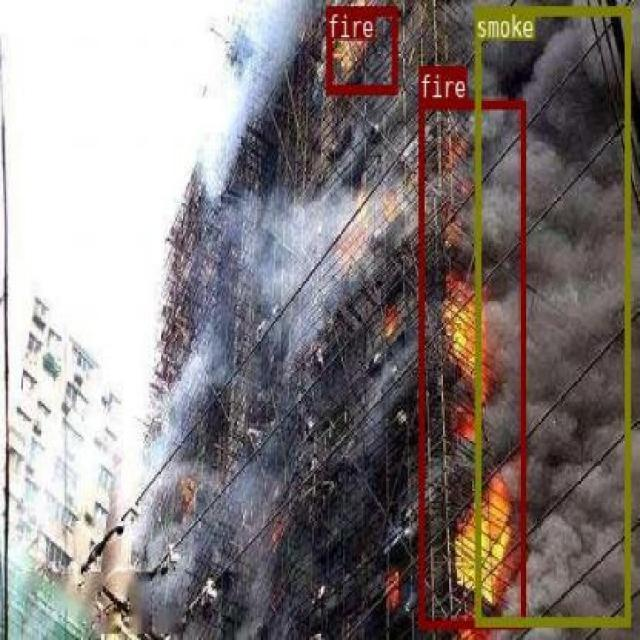CIV_Plane: (418, 98, 524, 628), (326, 5, 396, 91)
Fire: (418, 98, 524, 628), (326, 5, 396, 91)
Smoke: (506, 4, 598, 624)
